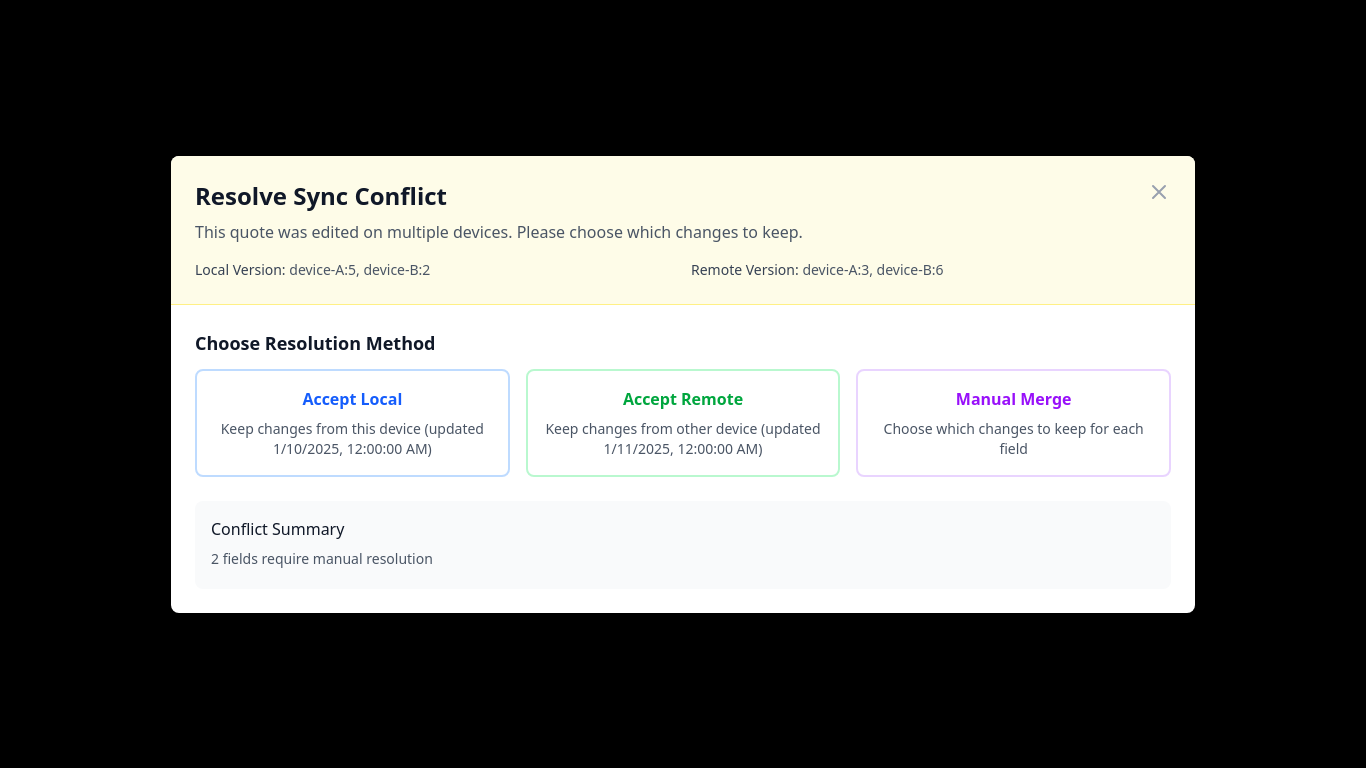
Test case: ConflictResolver › Manual Merge › displays field-by-field comparison when Manual Merge is clicked
Click the text "Manual Merge": (1014, 398) top-left (956, 388), bottom-right (1072, 410)
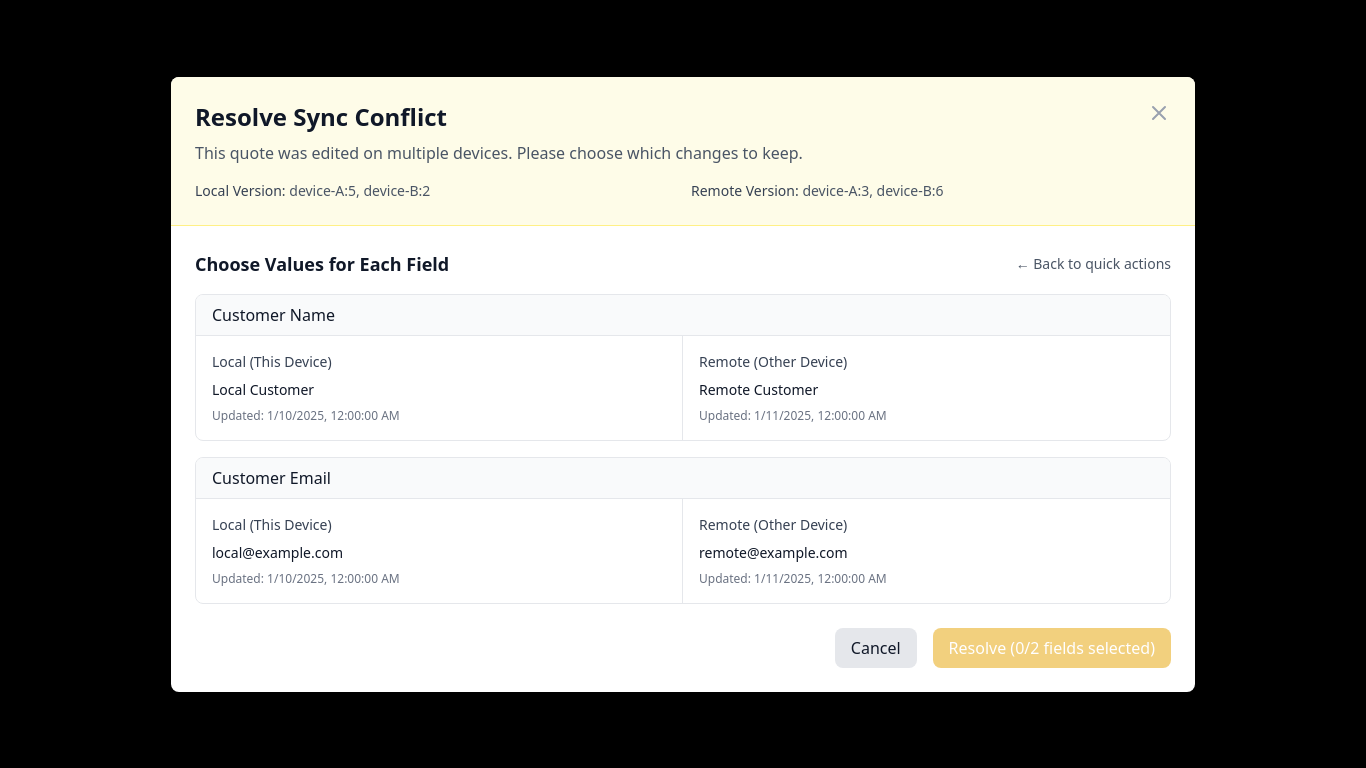
Check: the heading "Choose Values for Each Field" is shown, box top-left (195, 250), bottom-right (449, 278)
Check: the heading "Customer Name" is shown, box top-left (212, 304), bottom-right (335, 326)
Check: the heading "Customer Email" is shown, box top-left (212, 466), bottom-right (331, 488)
